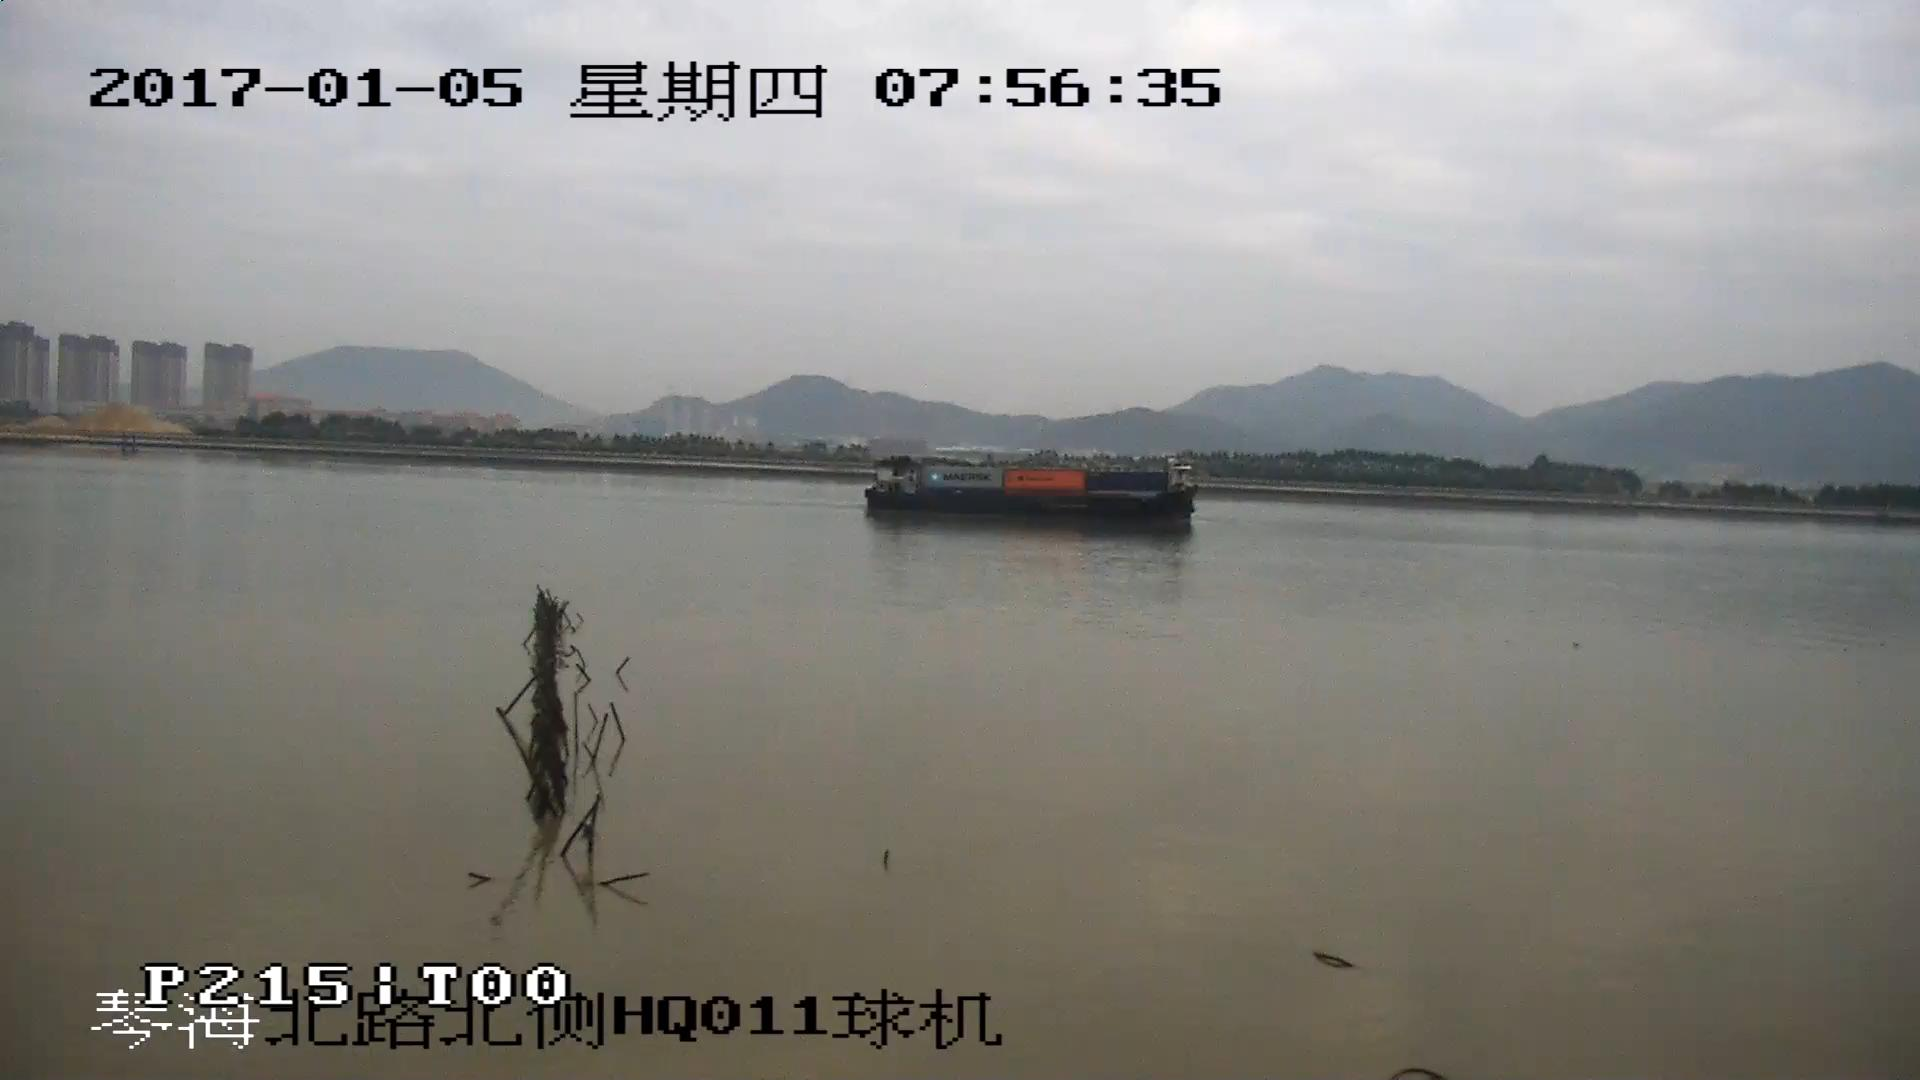container ship: (859, 461, 1196, 532)
